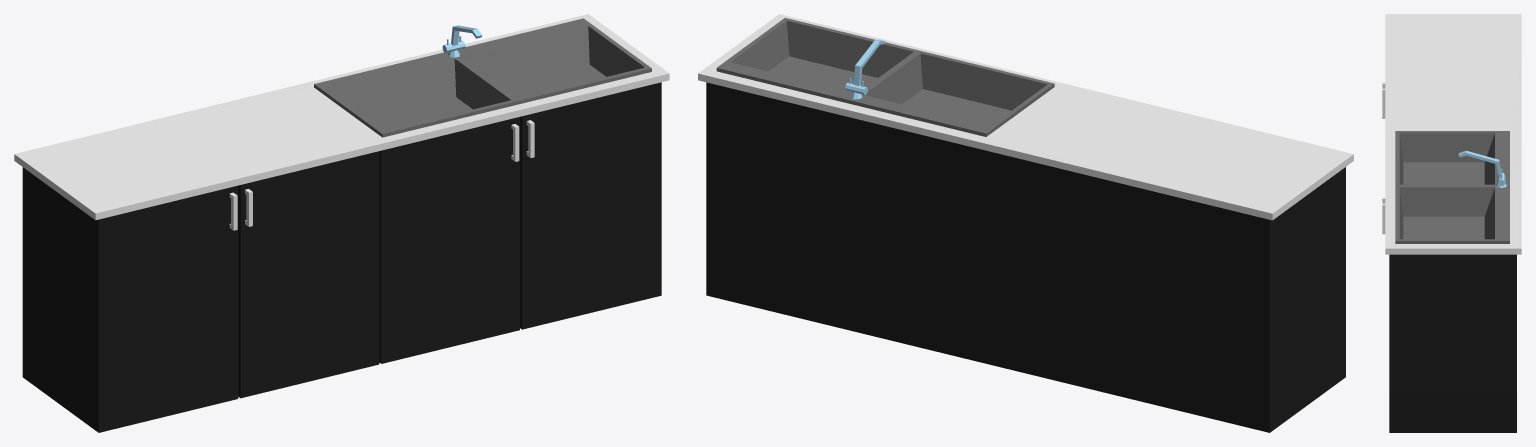
File: kitchen_item_002.glb
The picture shows the model from 3 angles, left to right: view 1: azimuth 30°, elevation 25°; view 2: azimuth 150°, elevation 25°; view 3: azimuth 270°, elevation 25°; orthographic projection. The views are drawn at different scales.
Visible parts, largest first — view 1: kitchen_item_002; view 2: kitchen_item_002; view 3: kitchen_item_002.
Part boxes in pixels (left/top/right/bottom): kitchen_item_002: left=14, top=14, right=669, bottom=432; kitchen_item_002: left=698, top=14, right=1353, bottom=432; kitchen_item_002: left=1382, top=14, right=1521, bottom=432.
Bounding box in the file's own units: 2.36 × 1.05 × 0.5903.
1 material, 1 textured.
